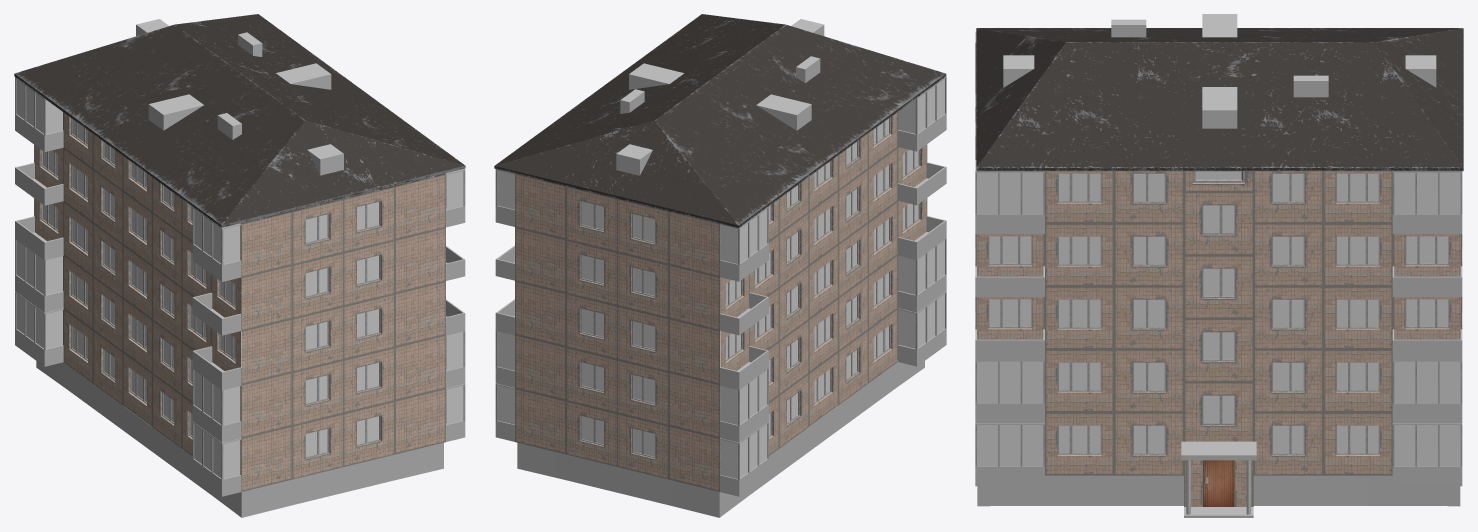
Rendered from Xrushovka.fbx.
3 views of the same model, side by side, from view 1: azimuth 30°, elevation 25°; view 2: azimuth 150°, elevation 25°; view 3: azimuth 270°, elevation 25° (orthographic). The views are drawn at different scales.
Parts seen in each view (by area): view 1: 2.011; view 2: 2.011; view 3: 2.011.
Boxes of the visible parts, x1=… form: 2.011: x1=14, y1=14, x2=465, y2=517; 2.011: x1=494, y1=14, x2=946, y2=517; 2.011: x1=975, y1=14, x2=1463, y2=517.
Bounding box in the file's own units: 969 × 1288 × 1404.
